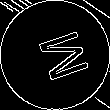M_W: (24, 25, 86, 85)
